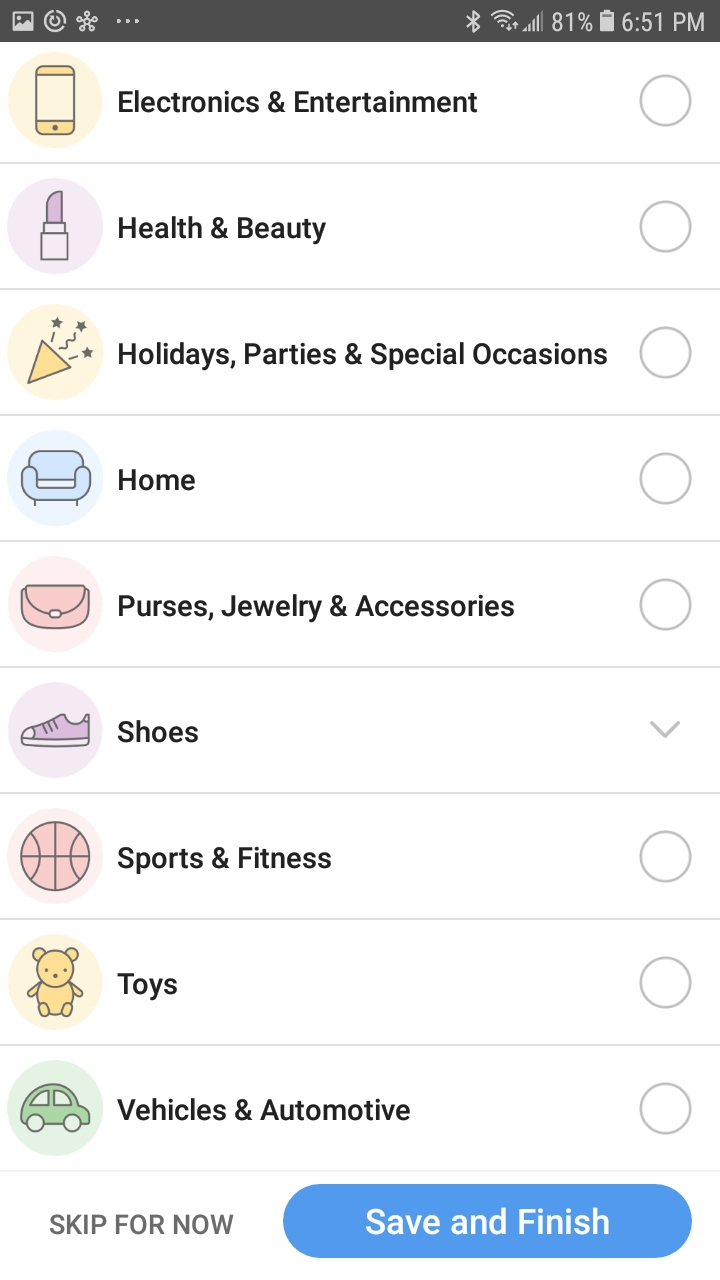CheckedTextView: (117, 956, 693, 1010), (118, 830, 693, 884), (119, 200, 693, 254), (119, 326, 693, 380), (118, 1081, 692, 1135), (119, 74, 692, 128), (119, 452, 692, 506), (119, 578, 692, 632)
Icon: (649, 720, 681, 739)
Image: (8, 304, 105, 402), (7, 807, 104, 905), (7, 53, 104, 150), (8, 179, 105, 276), (7, 430, 104, 527), (7, 556, 104, 653), (7, 1060, 104, 1157), (8, 681, 104, 779), (8, 933, 104, 1031)
Text: (119, 342, 608, 372), (119, 594, 515, 623), (119, 90, 478, 114), (118, 1097, 411, 1121), (119, 216, 327, 246), (118, 846, 332, 875), (50, 1213, 235, 1235), (118, 720, 199, 744), (119, 469, 196, 492), (117, 972, 178, 1001)
TextButton: (283, 1183, 693, 1258)
UpperTaskBar: (1, 1, 720, 43)
